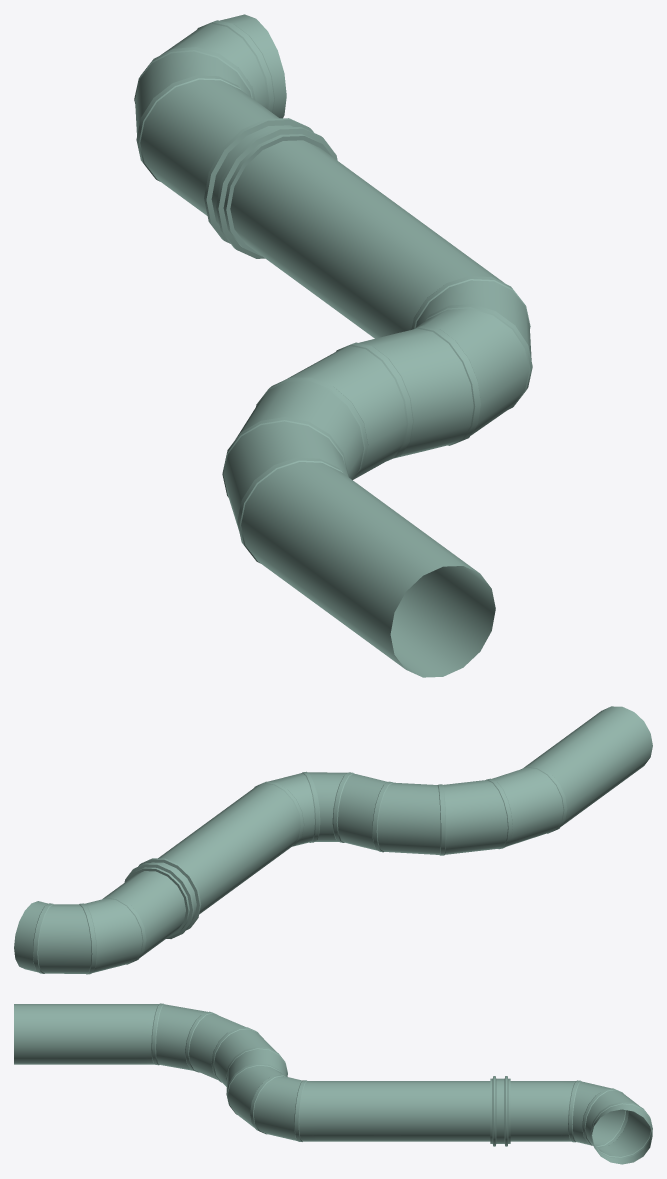
File: PipeComplexLarge_B_09.fbx
3 renders of one model, top to bottom at view 1: azimuth 30°, elevation 25°; view 2: azimuth 150°, elevation 25°; view 3: azimuth 270°, elevation 25°, orthographic. The views are drawn at different scales.
Visible parts, largest first — view 1: PipeComplexLarge_B_09.001; view 2: PipeComplexLarge_B_09.001; view 3: PipeComplexLarge_B_09.001.
Part boxes in pixels (x1,y1,x2,y2): PipeComplexLarge_B_09.001: [134, 14, 532, 677]; PipeComplexLarge_B_09.001: [14, 706, 652, 974]; PipeComplexLarge_B_09.001: [14, 1003, 652, 1164].
Size of the model in its own units: 0.9016 by 0.2334 by 2.1.
